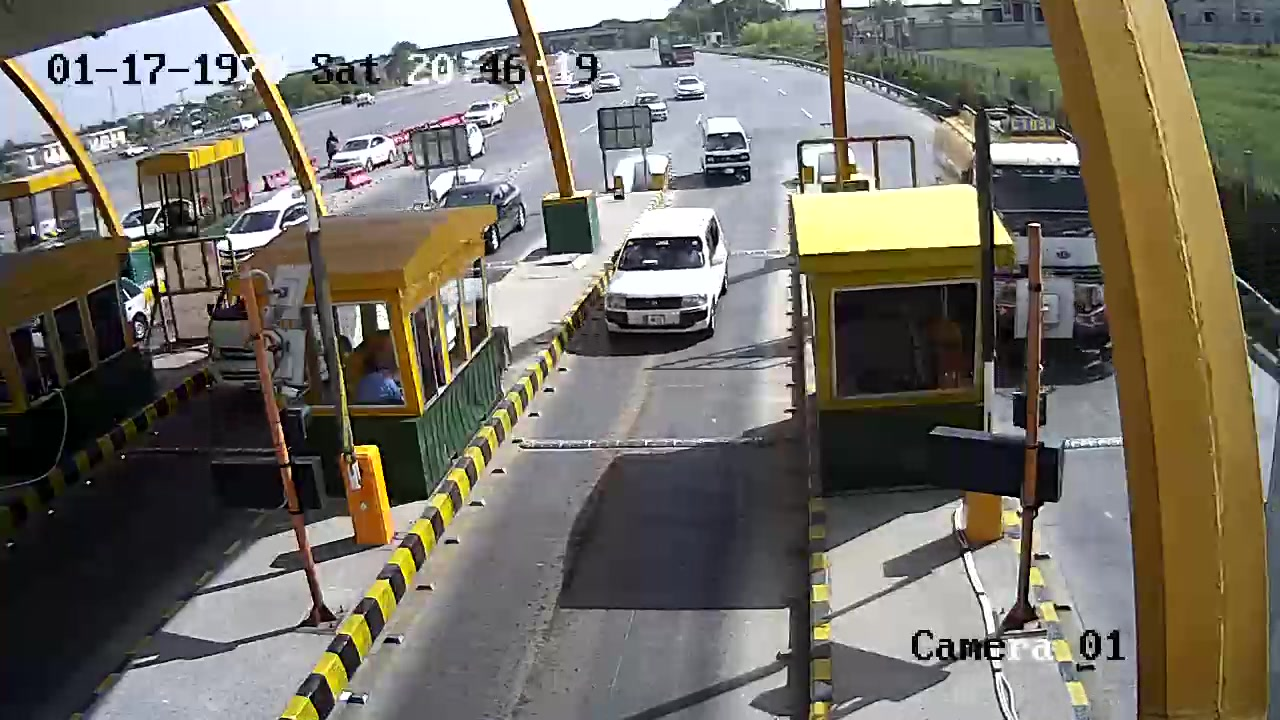F1: (593, 205, 742, 351)
